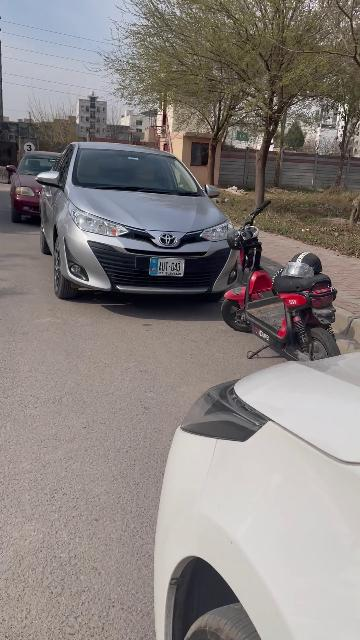plate: (150, 257, 184, 276)
